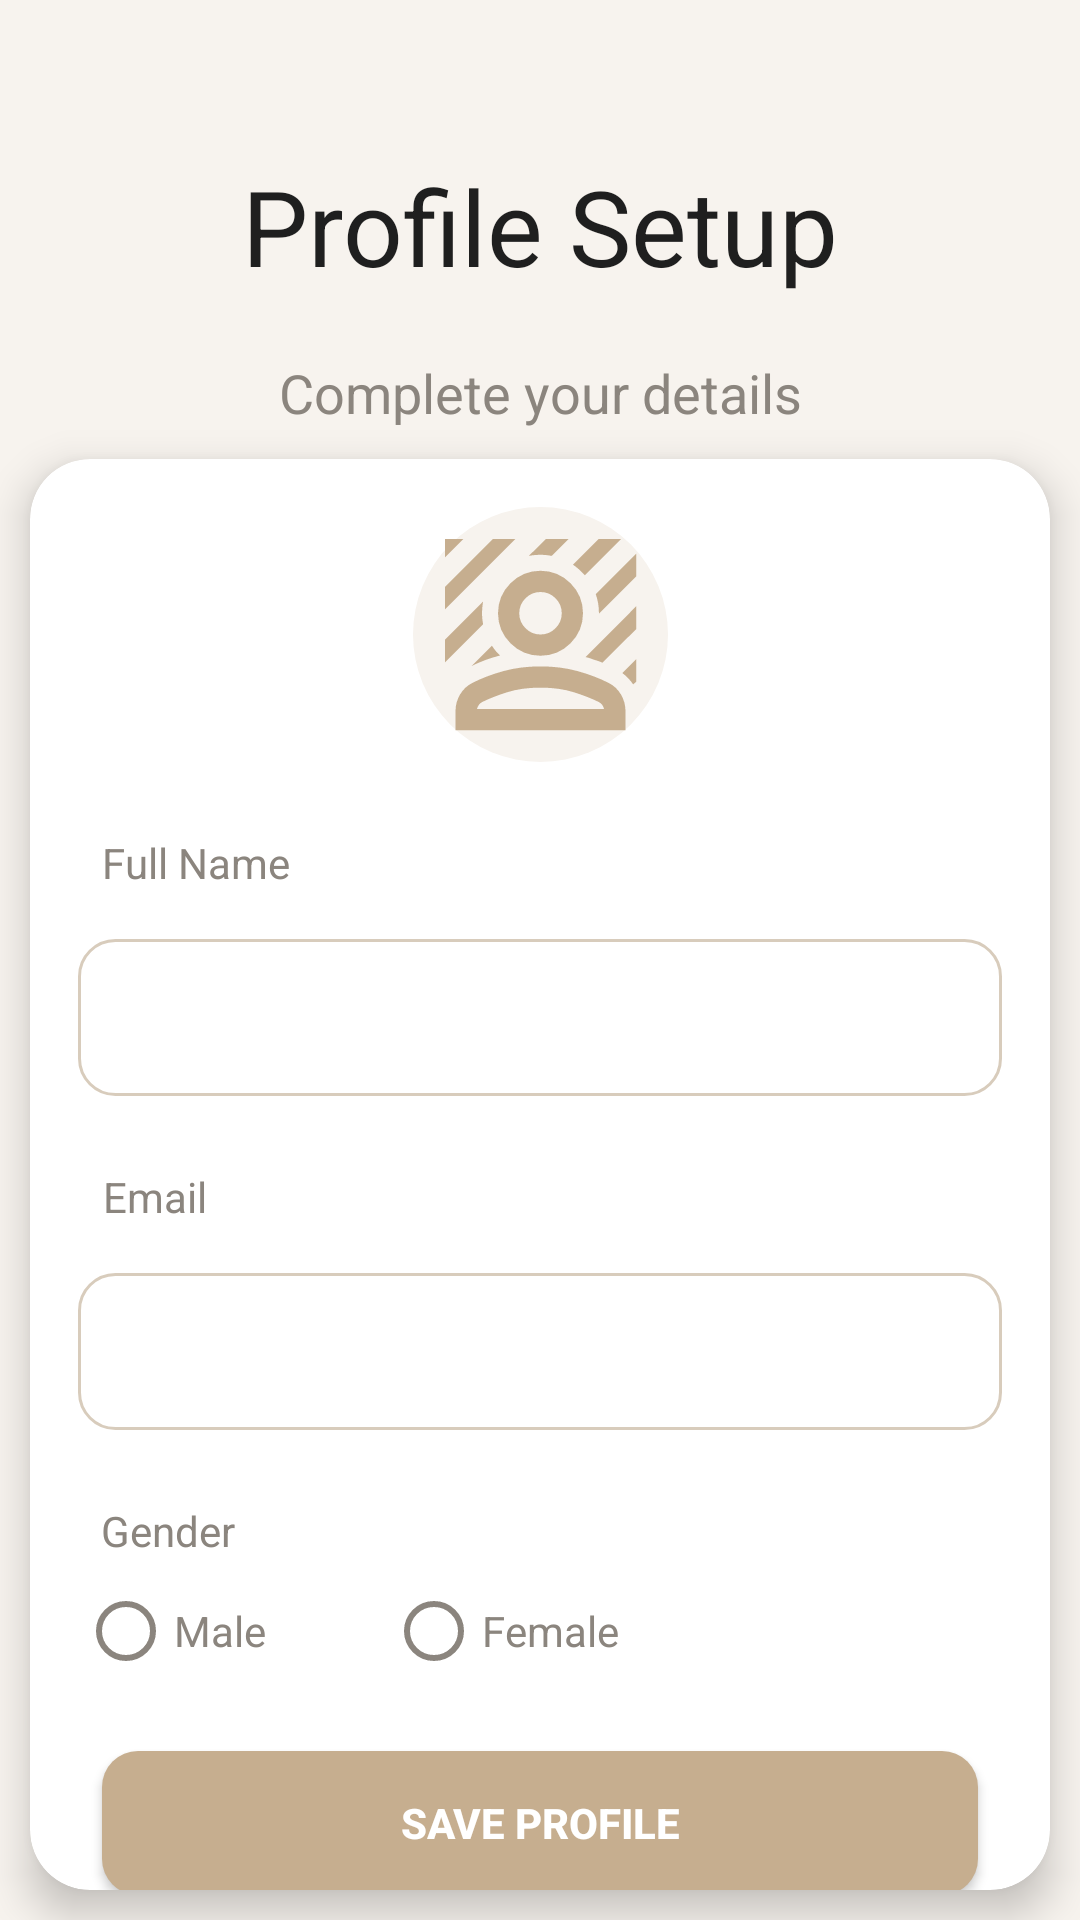

Locate icon controls on the screen. Image size 1080px×1920px, boxes as BBox(x1, y1, x2, y2).
avtar: BBox(413, 507, 668, 762)
